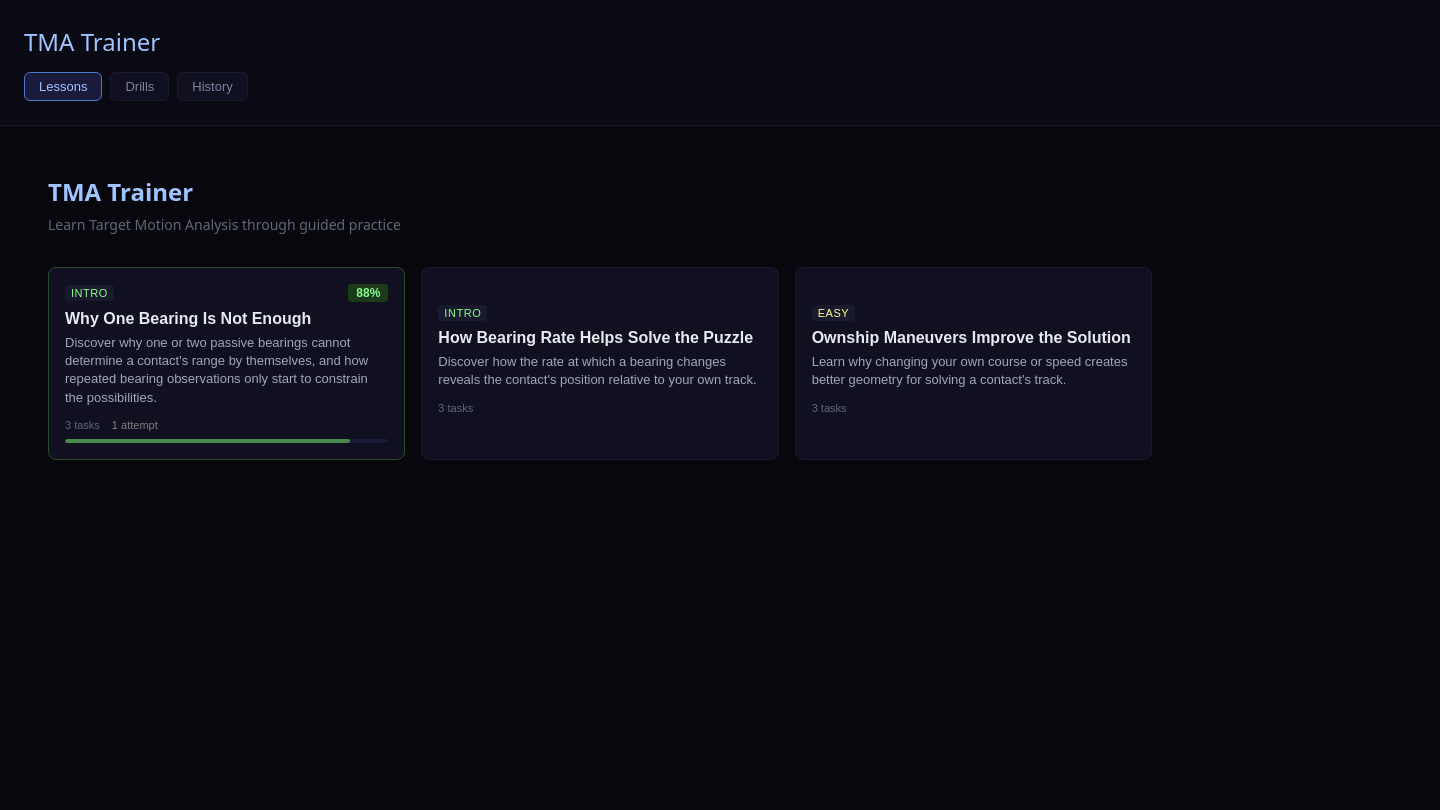
Test case: Lesson end-to-end workflow › play/pause toggles playback state inside a lesson
# Enter a lesson
What coordinates should you click on to do the following:
click the button "Why One Bearing Is Not Enough"
I would click on:
 (227, 363)
Its box is [48,267,405,460].
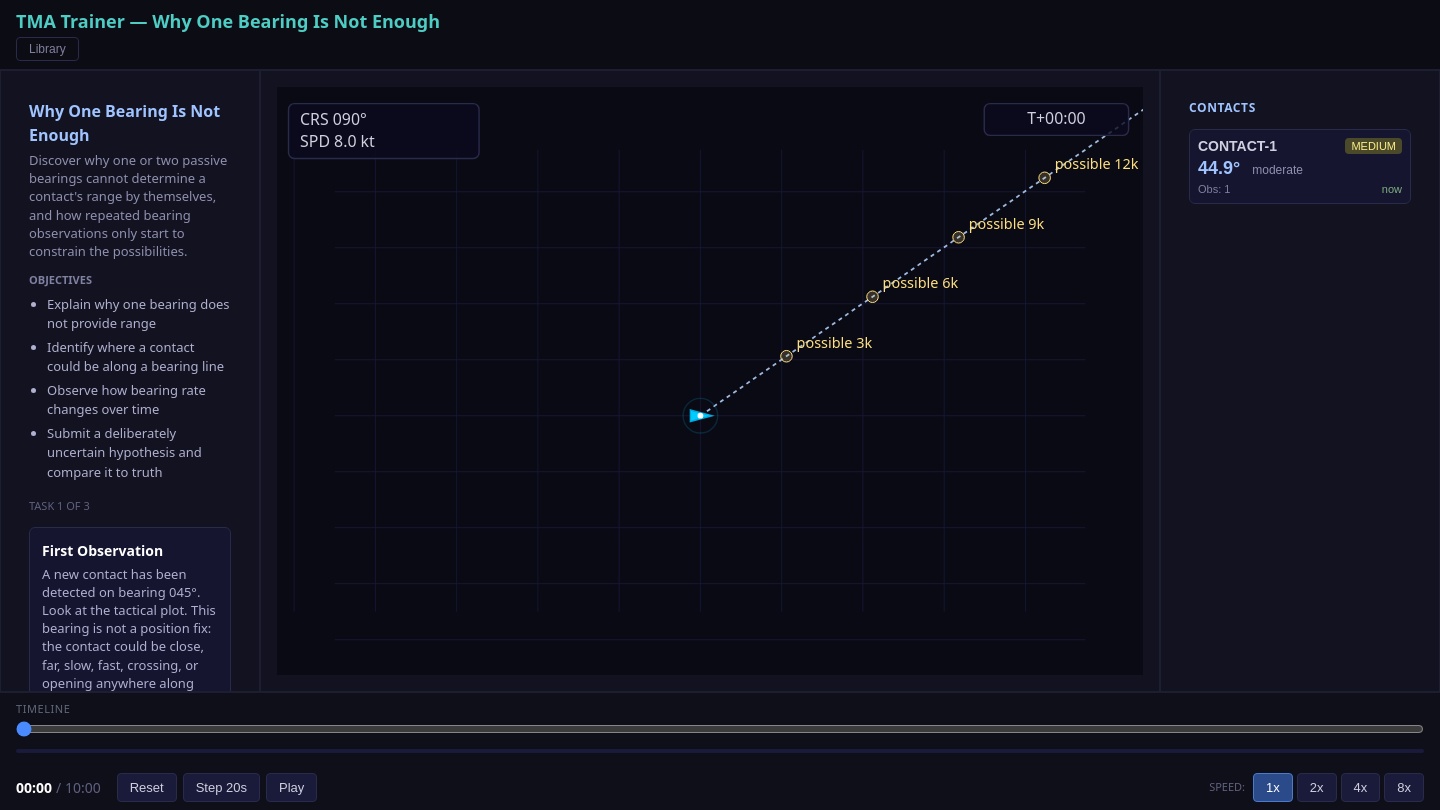
Expected: the button "Play" is shown
What coordinates should you click on to do the following:
click the button "Play"
I would click on:
 (292, 788)
Its box is [266,773,317,802].
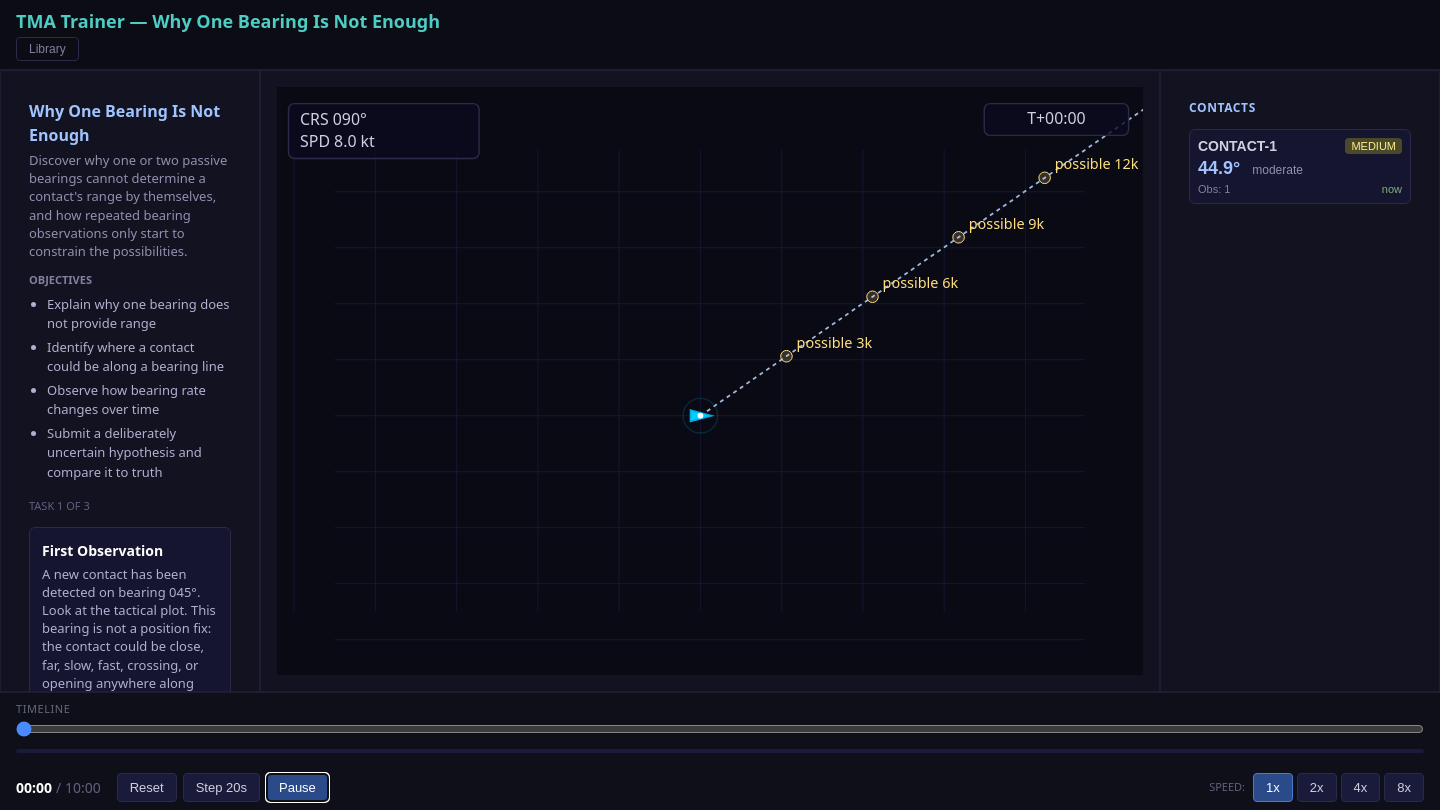
Expected: the button "Pause" is shown
What coordinates should you click on to do the following:
click the button "Pause"
I would click on:
 (297, 788)
Its box is [266,773,329,802].
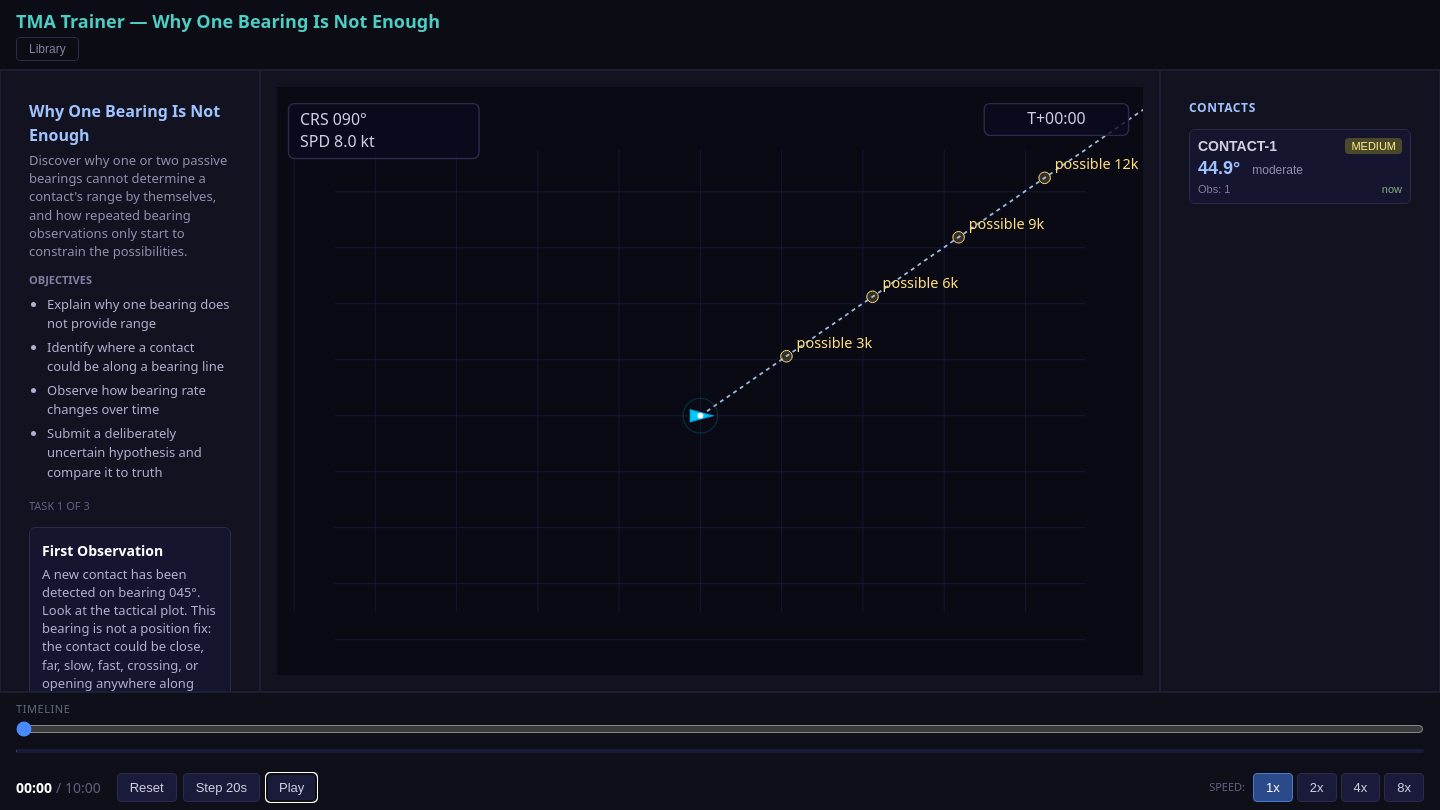
Expected: the button "Play" is shown, [266,773,317,802]
